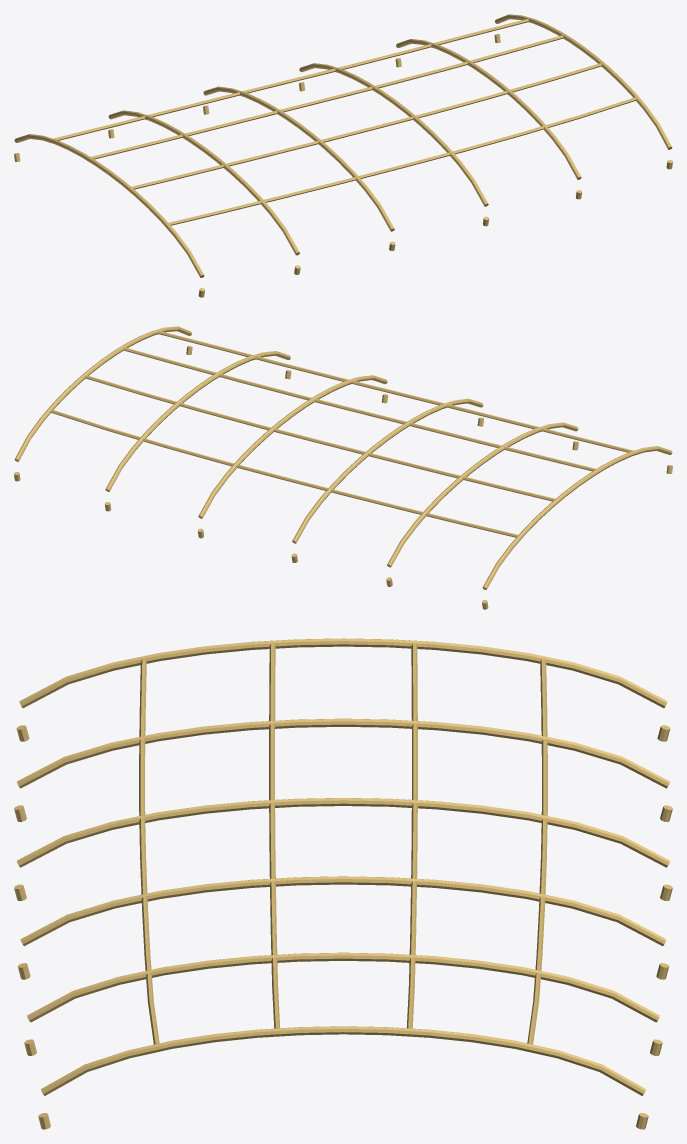
File: Canopy_Frame.glb
3 views of the same model, one above another, from view 1: azimuth 30°, elevation 25°; view 2: azimuth 150°, elevation 25°; view 3: azimuth 270°, elevation 25° (orthographic). The views are drawn at different scales.
Parts seen in each view (by area): view 1: Canopy_Frame; view 2: Canopy_Frame; view 3: Canopy_Frame.
Part boxes in pixels (bbox=[...]): Canopy_Frame: bbox=[14, 14, 672, 297]; Canopy_Frame: bbox=[14, 326, 672, 609]; Canopy_Frame: bbox=[14, 638, 672, 1129].
Bounding box in the file's own units: 2.87 × 0.3817 × 1.97.
